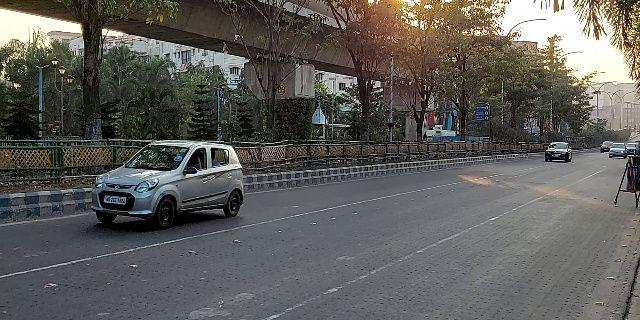Car: (87, 135, 245, 233), (543, 140, 573, 165), (607, 139, 629, 159)
